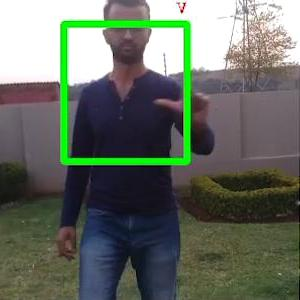land_hand: (150, 59, 218, 126)
